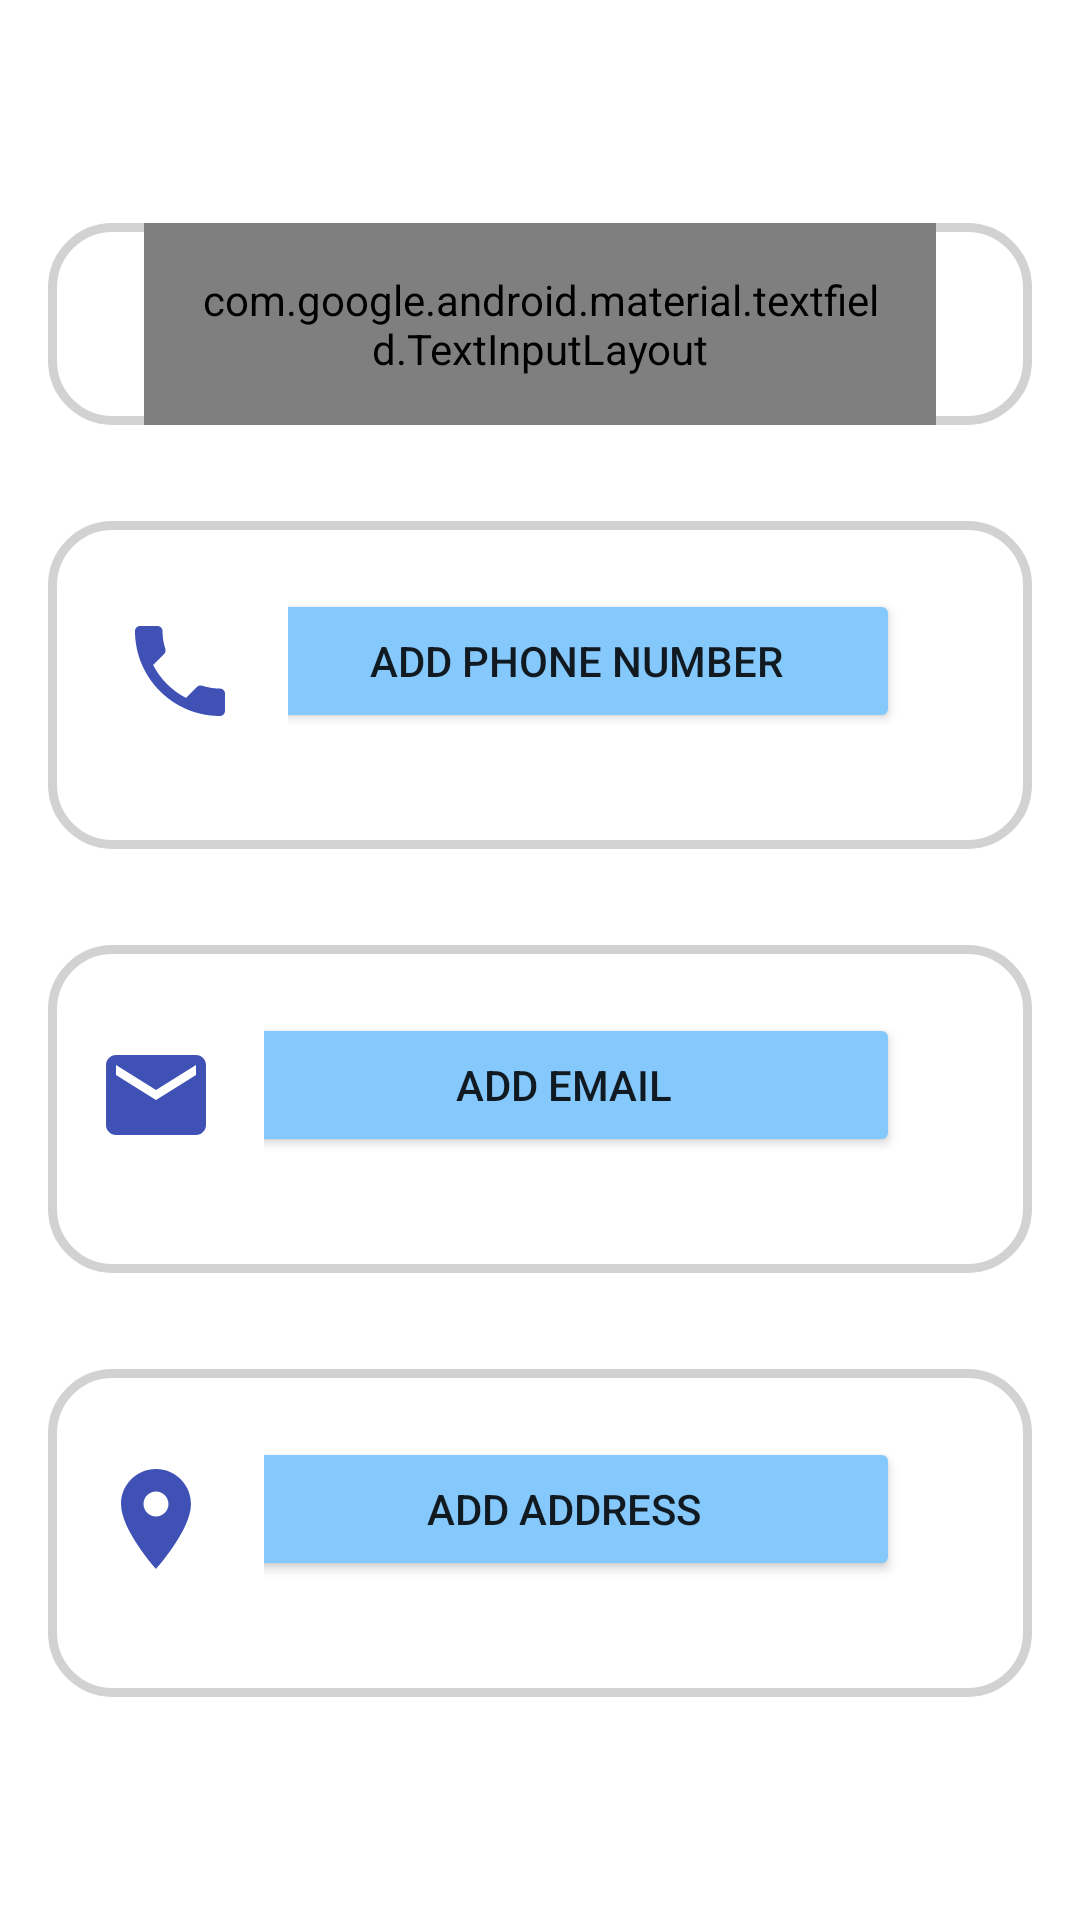

Screen size 1080 × 1920. Icon name, then its box in pixels as {"left": x1, "top": y1, "right": x2, "bottom": y2}:
location on: {"left": 121, "top": 1469, "right": 191, "bottom": 1569}
